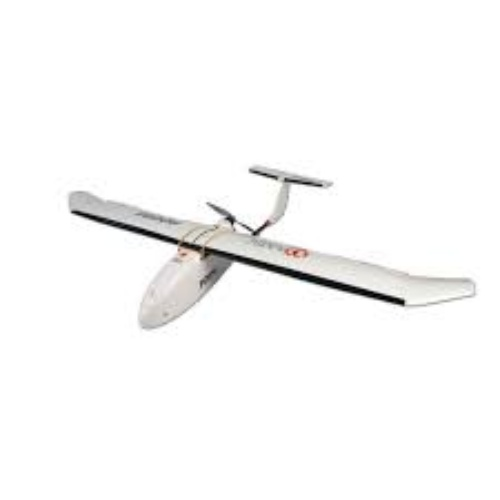uav420: (65, 166, 476, 331)
